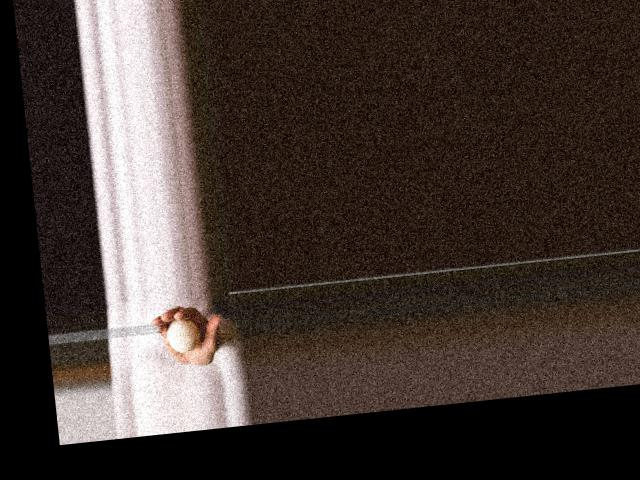egg: (165, 316, 201, 353)
